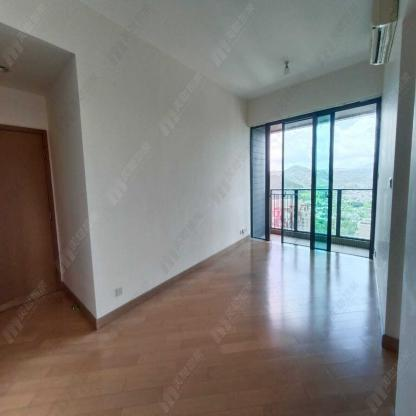AC: (370, 0, 399, 64)
